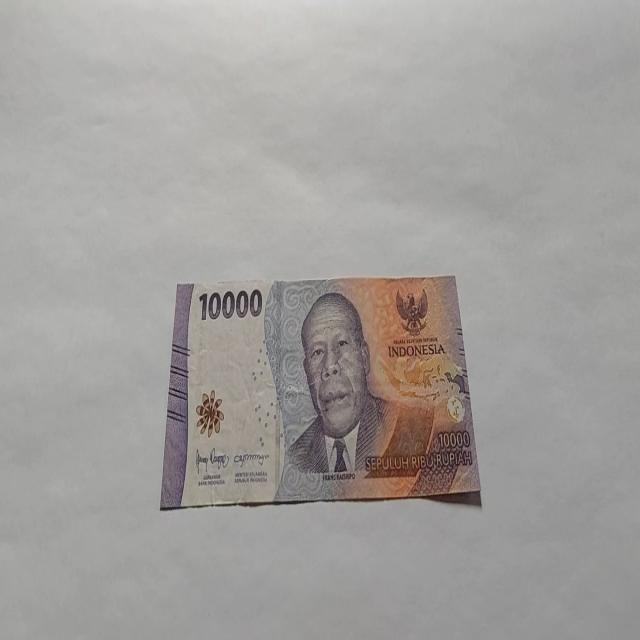sepuluh ribu rupiah: (158, 274, 482, 511)
